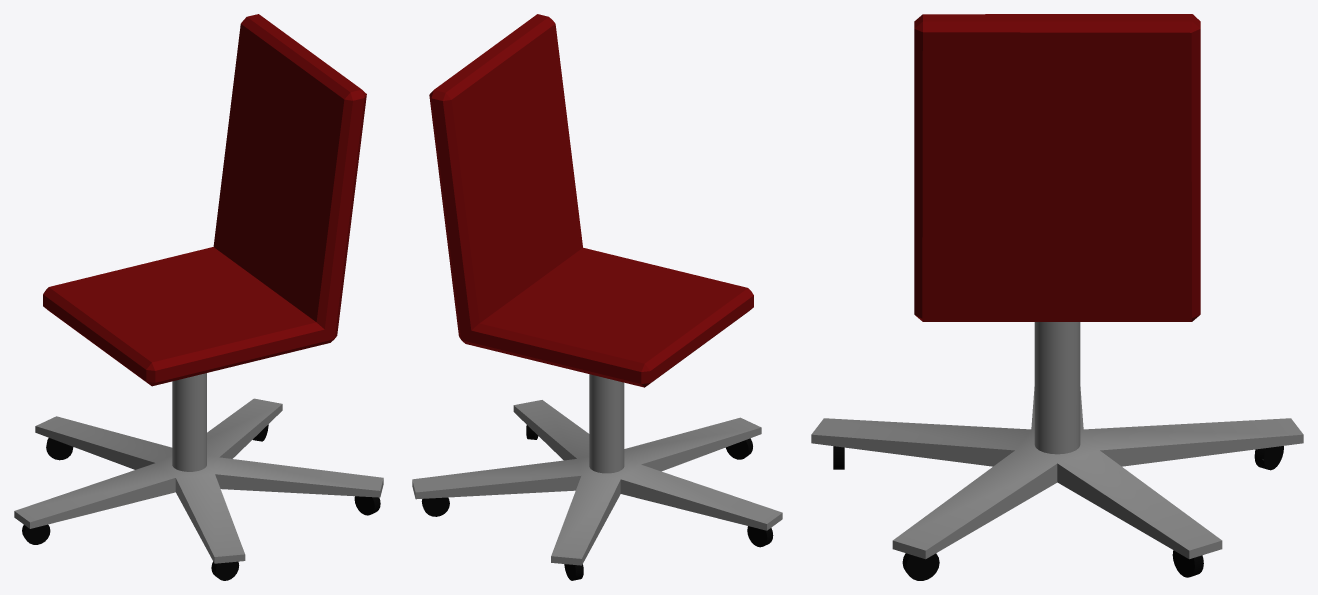
File: Chair (1).fbx
3 renders of one model, left to right at view 1: azimuth 30°, elevation 25°; view 2: azimuth 150°, elevation 25°; view 3: azimuth 270°, elevation 25°, orthographic. The views are drawn at different scales.
Parts seen in each view (by area): view 1: chairstem; view 2: chairstem; view 3: chairstem.
Part boxes in pixels (left/top/right/bottom): chairstem: left=14, top=14, right=383, bottom=580; chairstem: left=412, top=14, right=782, bottom=580; chairstem: left=811, top=14, right=1303, bottom=580.
Size of the model in its own units: 4.09 by 5.34 by 4.3.
1 material, 1 textured.
